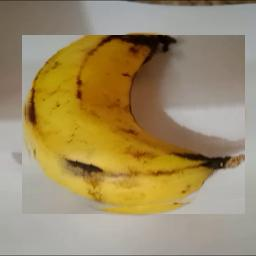Banana Semifresh: (23, 35, 246, 214)
